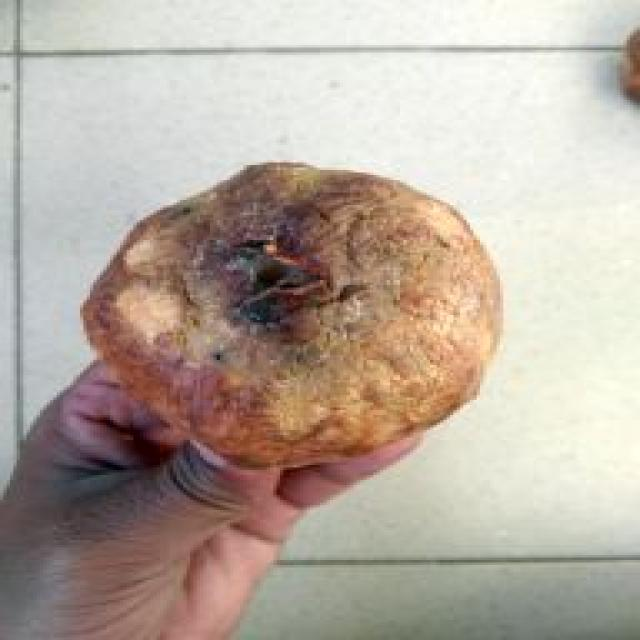Bad_Guava: (82, 162, 502, 467)
